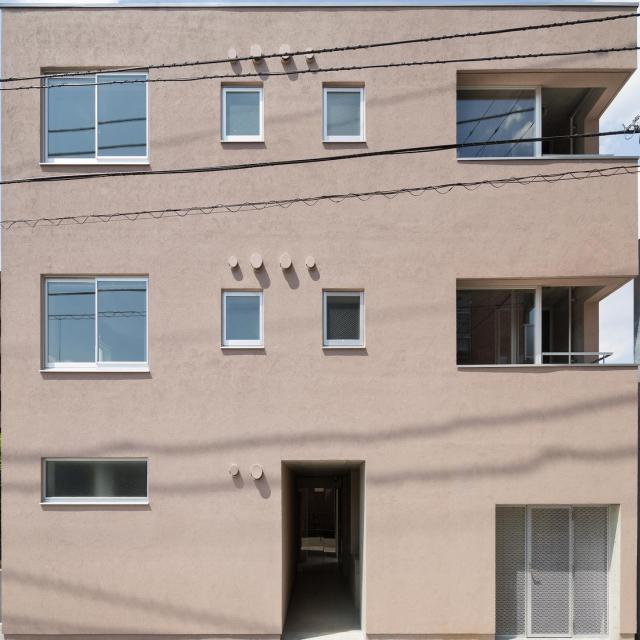door: (494, 505, 610, 634), (297, 486, 339, 565)
wall: (0, 0, 637, 640)
windows: (45, 279, 150, 366), (44, 75, 148, 159), (456, 285, 537, 366), (457, 86, 538, 155), (44, 459, 146, 495), (224, 288, 262, 346), (221, 84, 259, 136), (324, 293, 362, 341), (328, 91, 361, 138)
